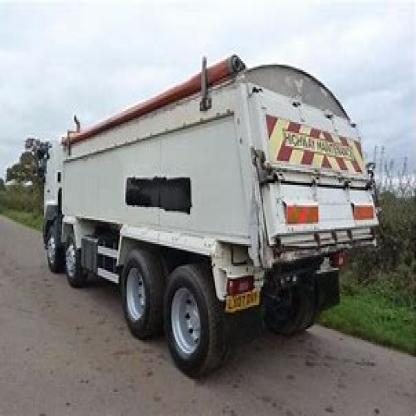dump_truck: (26, 54, 382, 382)
